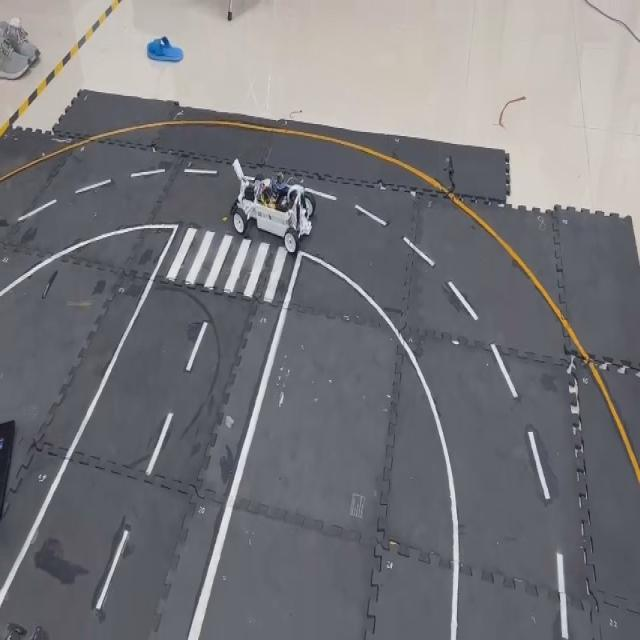SiCo-CAR: (229, 156, 314, 256)
